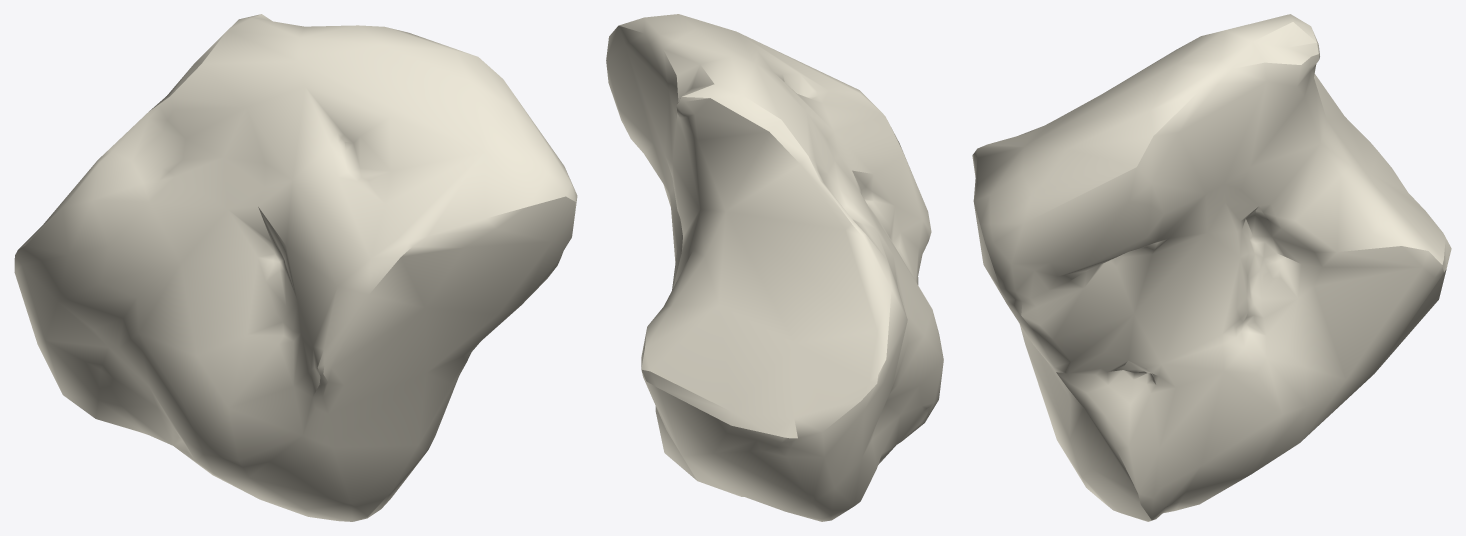
File: fma24522_fj3271.glb
3 renders of one model, left to right at view 1: azimuth 30°, elevation 25°; view 2: azimuth 150°, elevation 25°; view 3: azimuth 270°, elevation 25°, orthographic. The views are drawn at different scales.
Visible parts, largest first — view 1: FMA24522_FJ3271; view 2: FMA24522_FJ3271; view 3: FMA24522_FJ3271.
Part boxes in pixels (box(x1,y1,x2,y2)): FMA24522_FJ3271: box(14, 14, 577, 521); FMA24522_FJ3271: box(606, 14, 943, 521); FMA24522_FJ3271: box(972, 14, 1451, 521).
Size of the model in its own units: 0.0281 by 0.031 by 0.0285.
